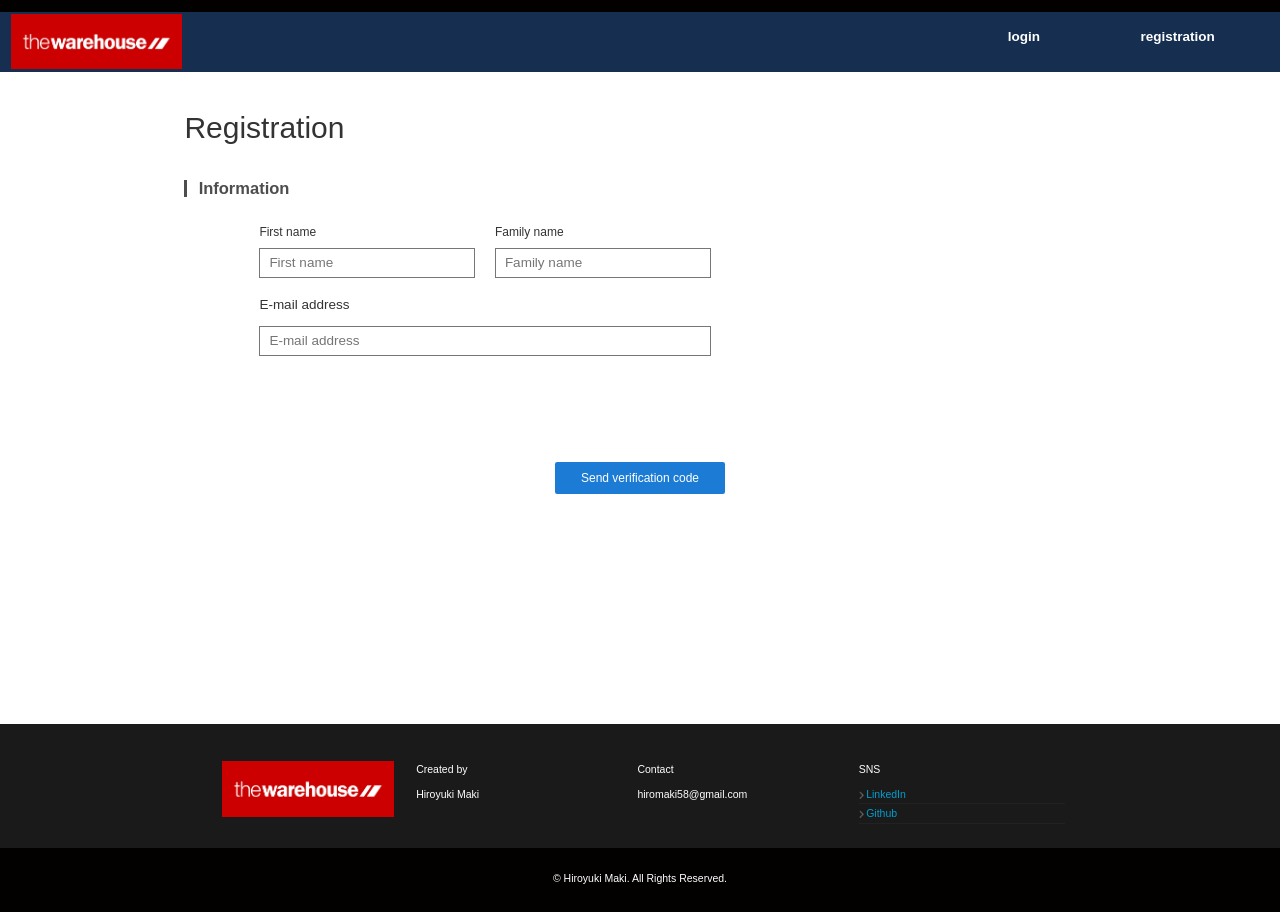
Test case: RegistrationPage › sends the trimmed e-mail address and moves to the code step
This screenshot has width=1280, height=912.
In the field labelled "First name": (367, 263) 259,248 -> 475,278, type "Taro"
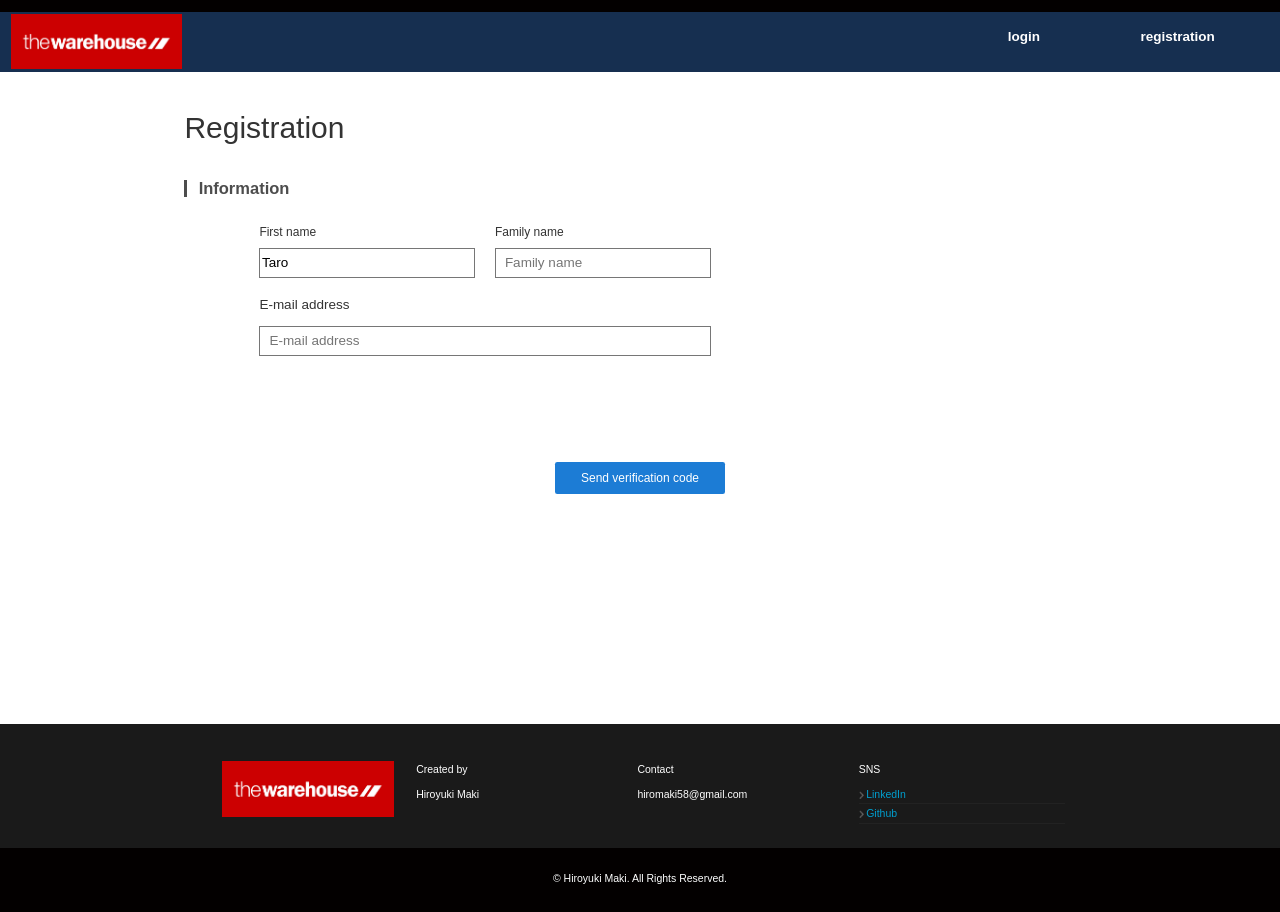
In the field labelled "Family name": (603, 263) 495,248 -> 711,278, type "Yamada"
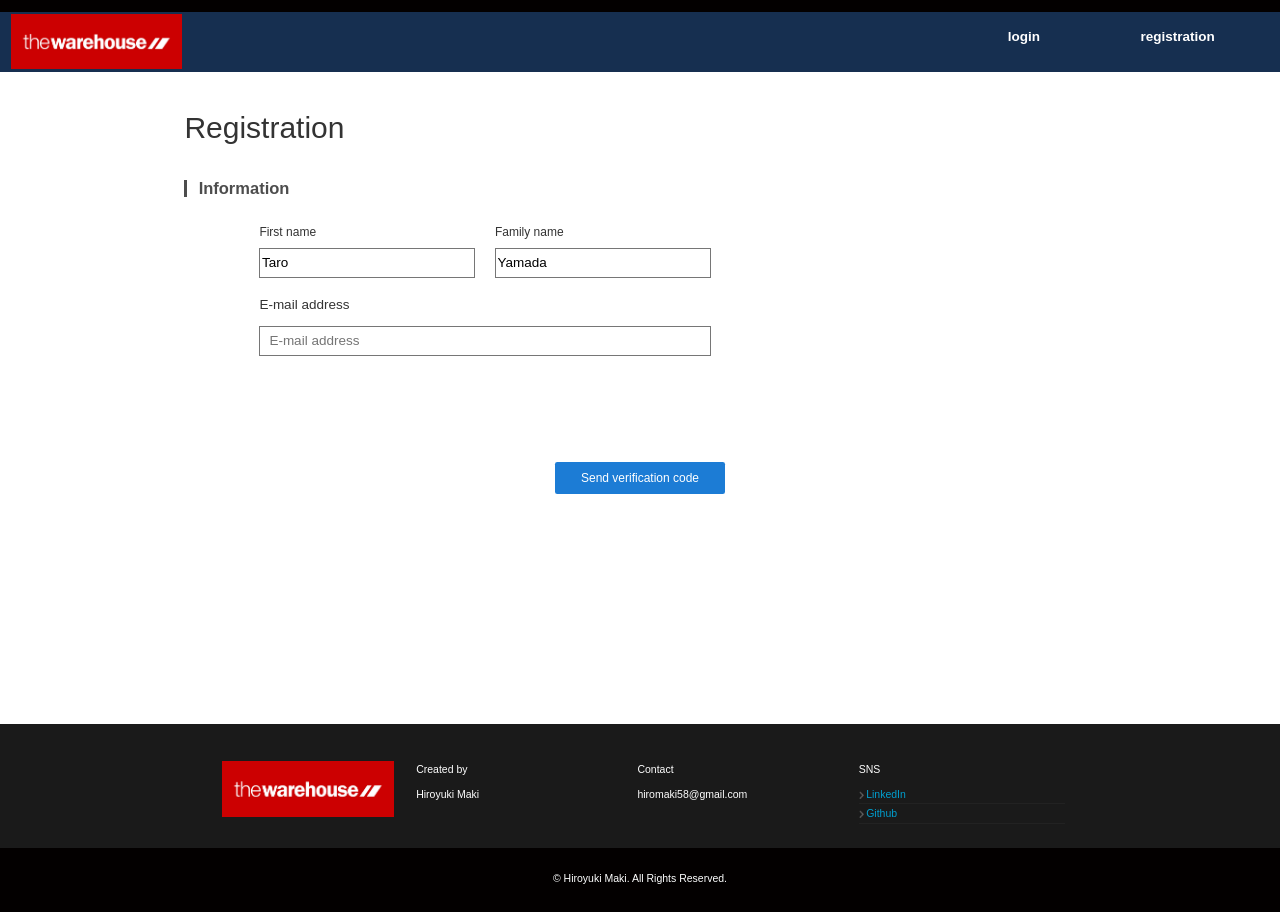
In the field labelled "E-mail address": (485, 341) 259,326 -> 711,356, type " taro@example.com "
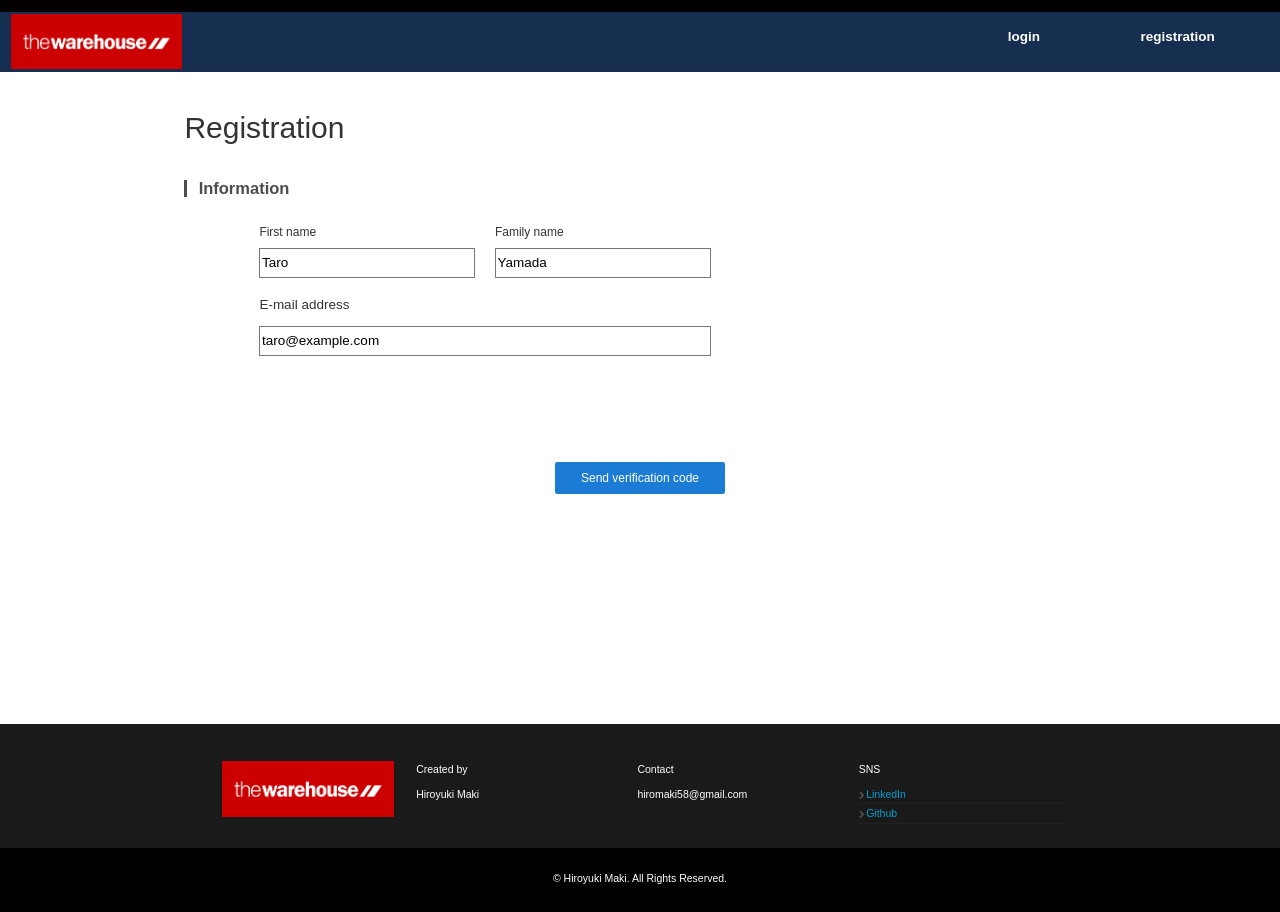
Click the button "Send verification code": (640, 478) 556,462 -> 725,494
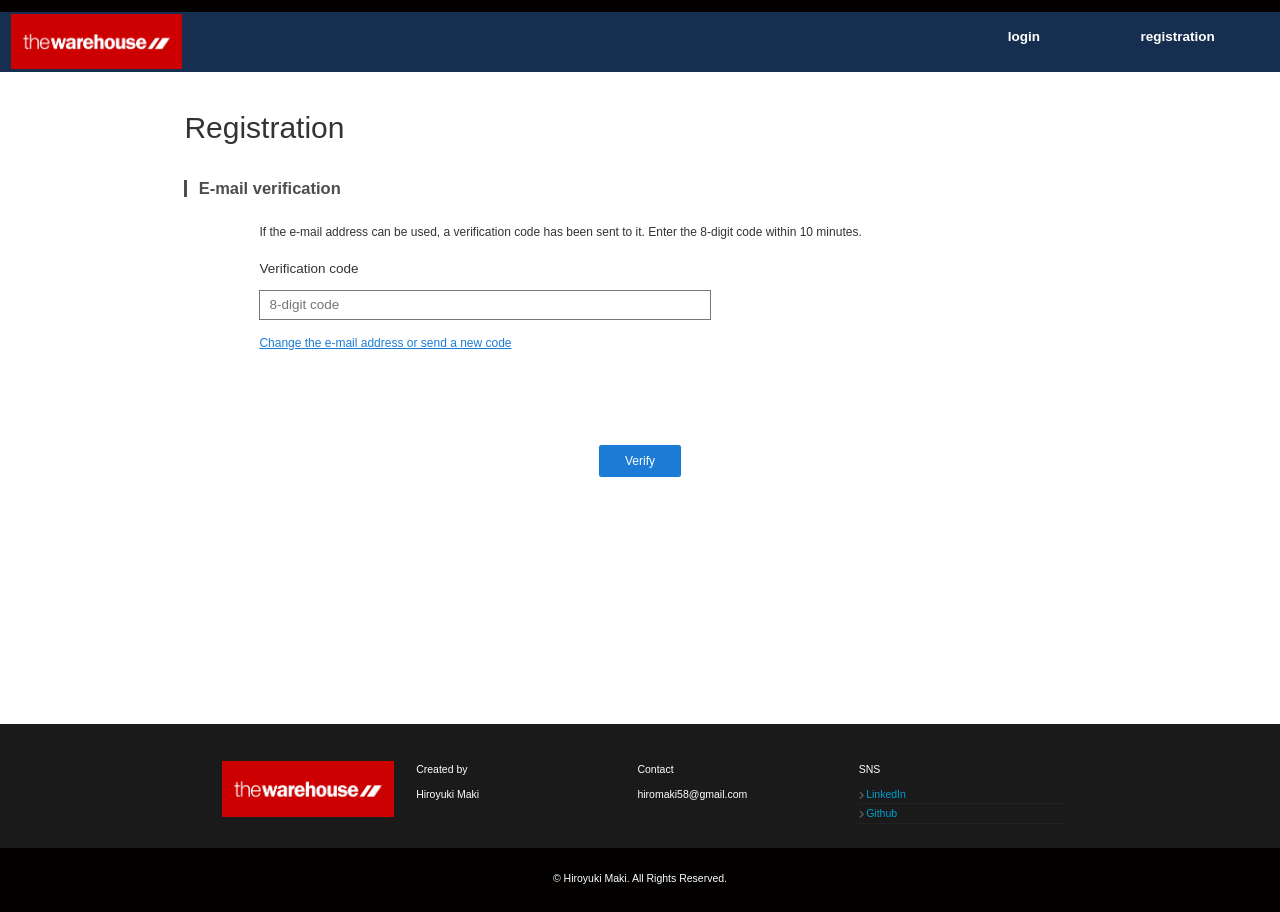
Result: the heading "E-mail verification" is shown at 184,180 -> 1096,196
Result: the field labelled "Verification code" is shown at 259,290 -> 711,320
